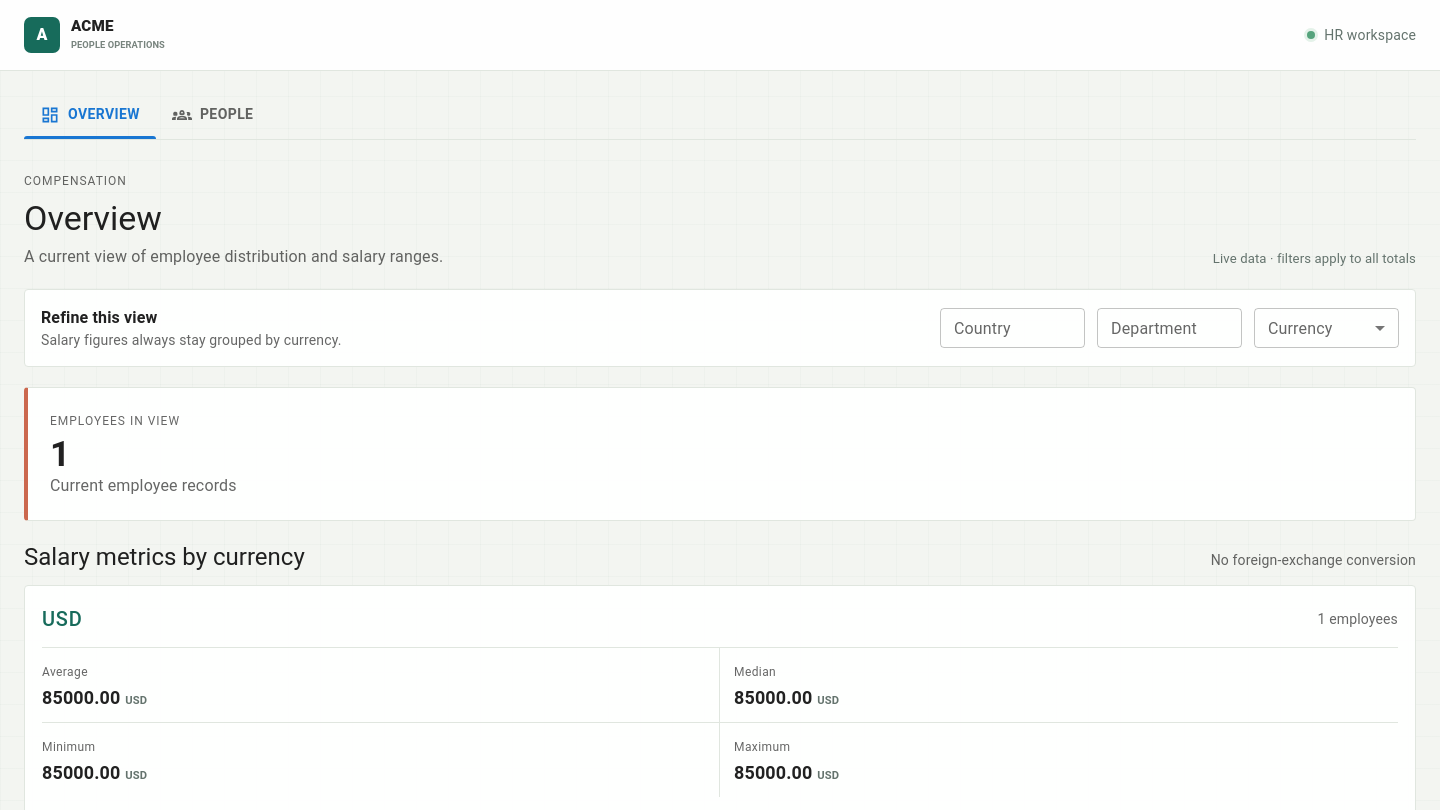
Test case: salary management UI › displays API errors in the directory view
The width and height of the screenshot is (1440, 810).
Click the tab "People": (213,115) [156,91,269,139]
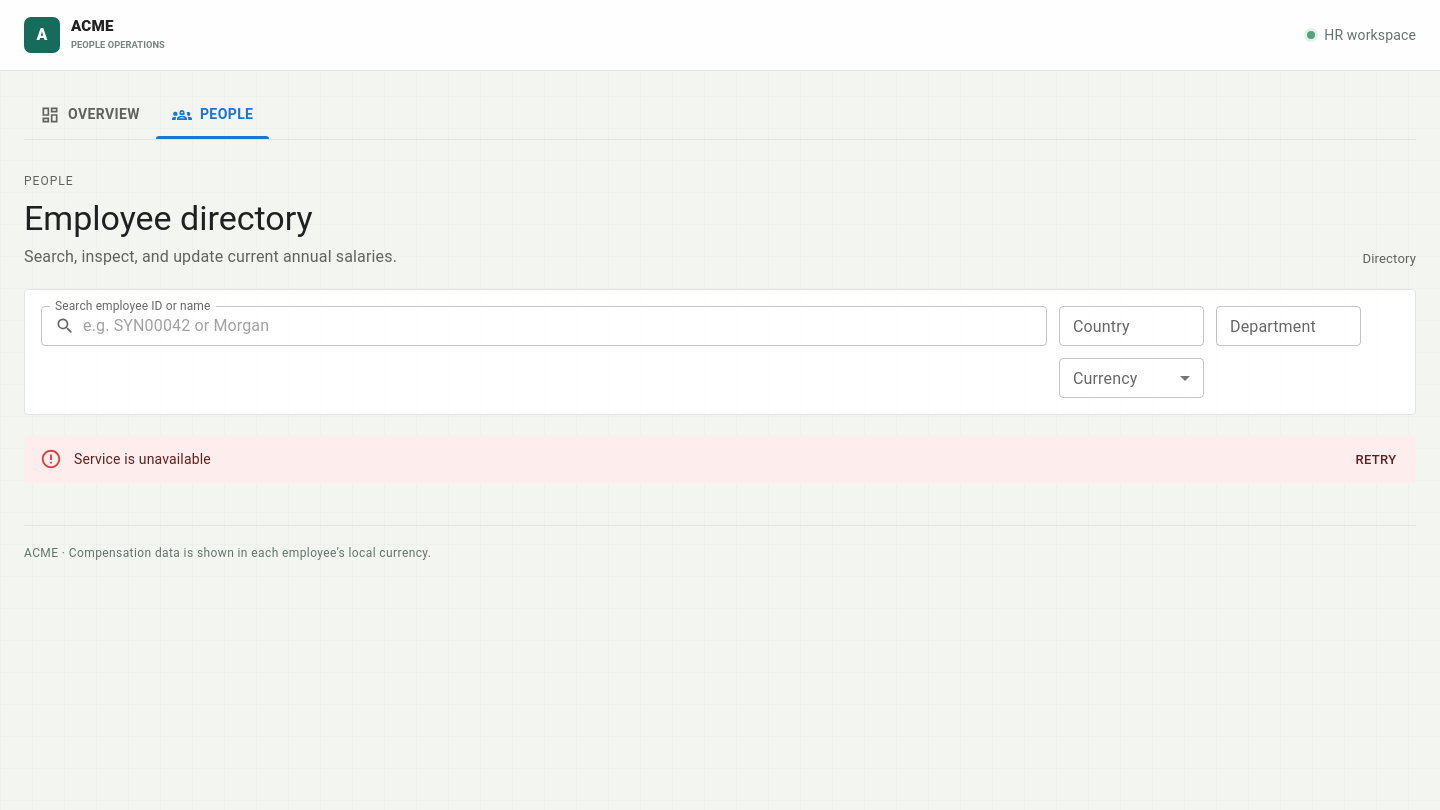
Result: the text "Service is unavailable" is shown at [74,451,211,467]
Result: the message "Service is unavailable Retry" is shown at [24,435,1416,483]
Result: the button "Retry" is shown at [1344,445,1408,476]
